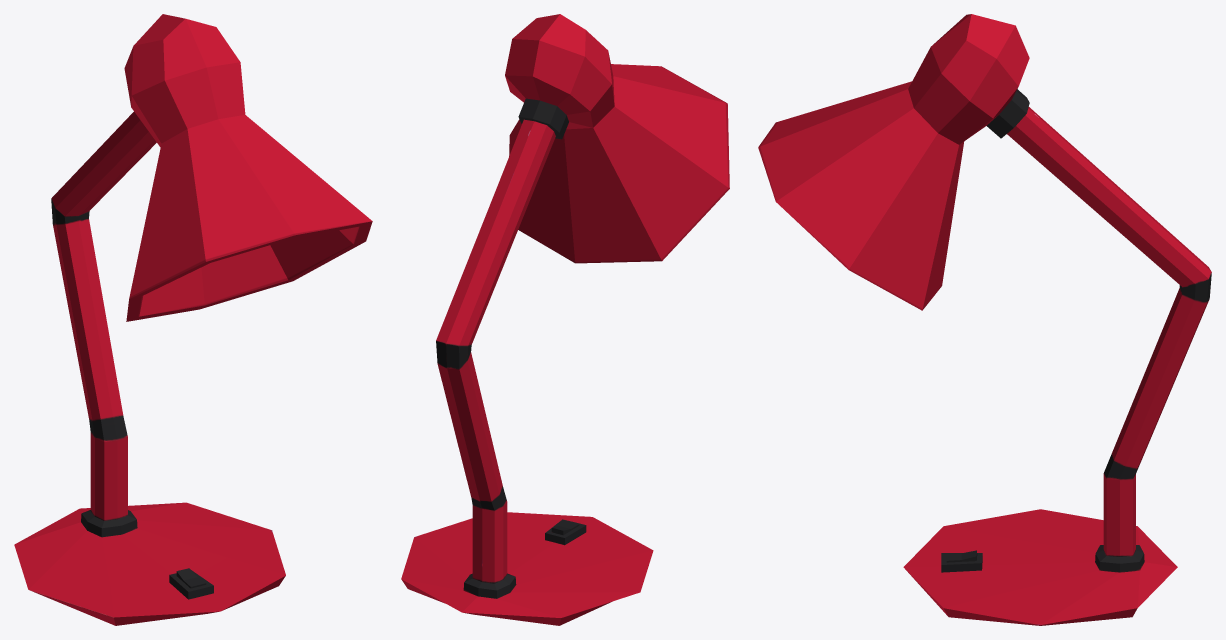
The model's file is ABAJU VERMELHO.FBX.
The picture shows the model from 3 angles, left to right: view 1: azimuth 30°, elevation 25°; view 2: azimuth 150°, elevation 25°; view 3: azimuth 270°, elevation 25°; orthographic projection. The views are drawn at different scales.
Visible parts, largest first — view 1: Cube; view 2: Cube; view 3: Cube.
Part boxes in pixels (box(x1,y1,x2,y2)): Cube: box(14, 14, 372, 625); Cube: box(401, 14, 729, 625); Cube: box(758, 14, 1211, 625).
Size of the model in its own units: 3464 by 7858 by 5726.
1 material, 1 textured.
